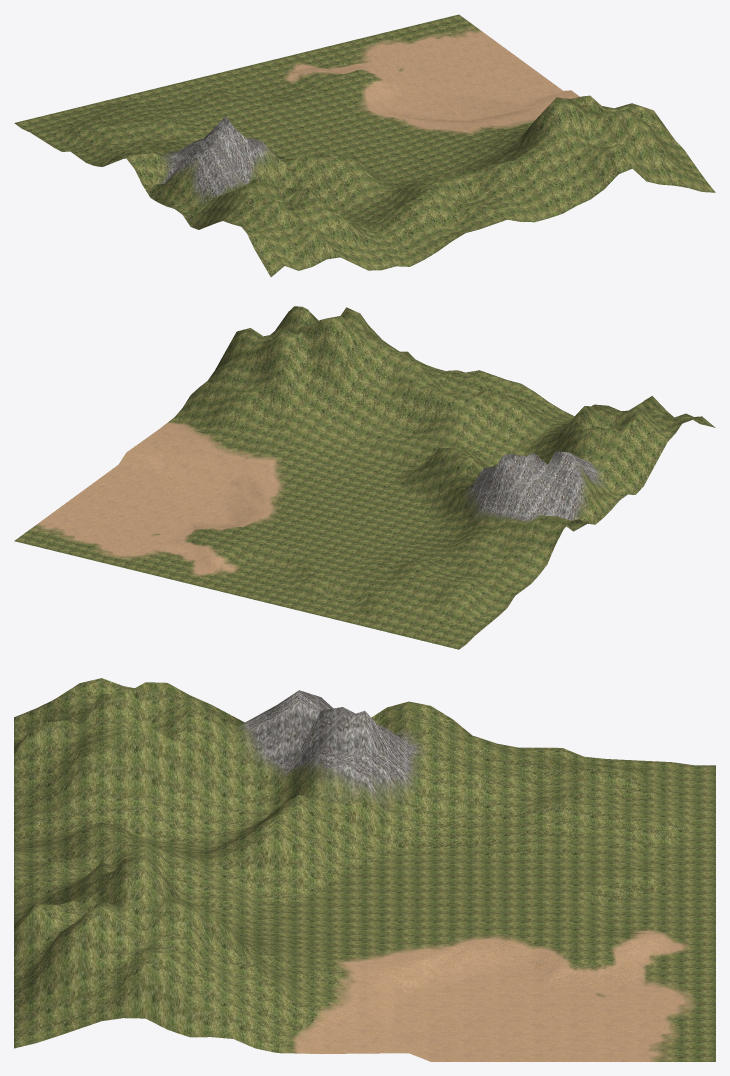
3 views of the same model, one above another, from view 1: azimuth 30°, elevation 25°; view 2: azimuth 150°, elevation 25°; view 3: azimuth 270°, elevation 25° (orthographic). The views are drawn at different scales.
Visible parts, largest first — view 1: Mesh; view 2: Mesh; view 3: Mesh.
Boxes of the visible parts, box(x1,y1,x2,y2) form: Mesh: box(14, 14, 715, 276); Mesh: box(14, 306, 715, 649); Mesh: box(14, 678, 715, 1061).
Bounding box in the file's own units: 700 × 146 × 700.
1 material, 1 textured.
